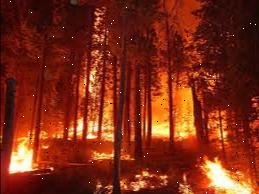fire: (0, 122, 113, 194), (118, 143, 252, 194)
